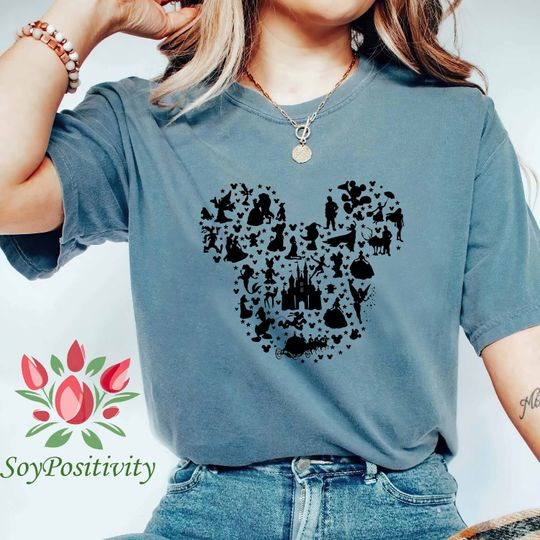design: (196, 177, 405, 366)
